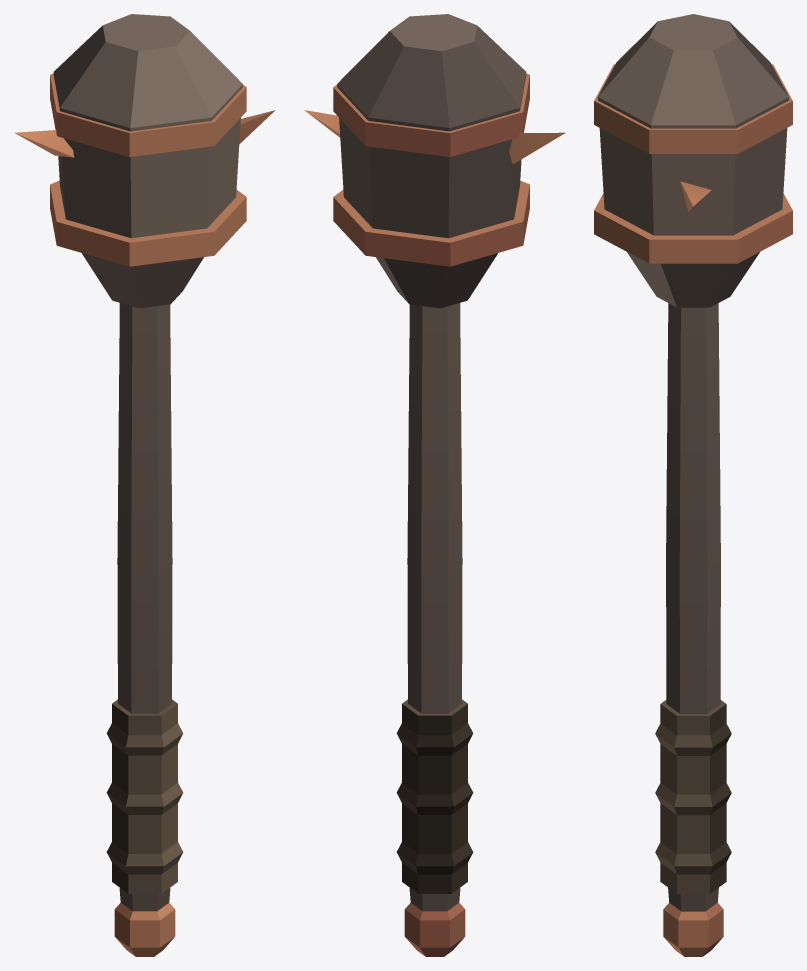
Rendered from knight_mace_0.gltf.
3 views of the same model, side by side, from view 1: azimuth 30°, elevation 25°; view 2: azimuth 150°, elevation 25°; view 3: azimuth 270°, elevation 25° (orthographic).
Visible parts, largest first — view 1: knight_mace_0; view 2: knight_mace_0; view 3: knight_mace_0.
Boxes of the visible parts, x1=… form: knight_mace_0: x1=14, y1=14, x2=275, y2=956; knight_mace_0: x1=304, y1=14, x2=565, y2=956; knight_mace_0: x1=594, y1=14, x2=792, y2=956.
Size of the model in its own units: 0.4 by 1.34 by 0.2632.
1 material, 1 textured.
